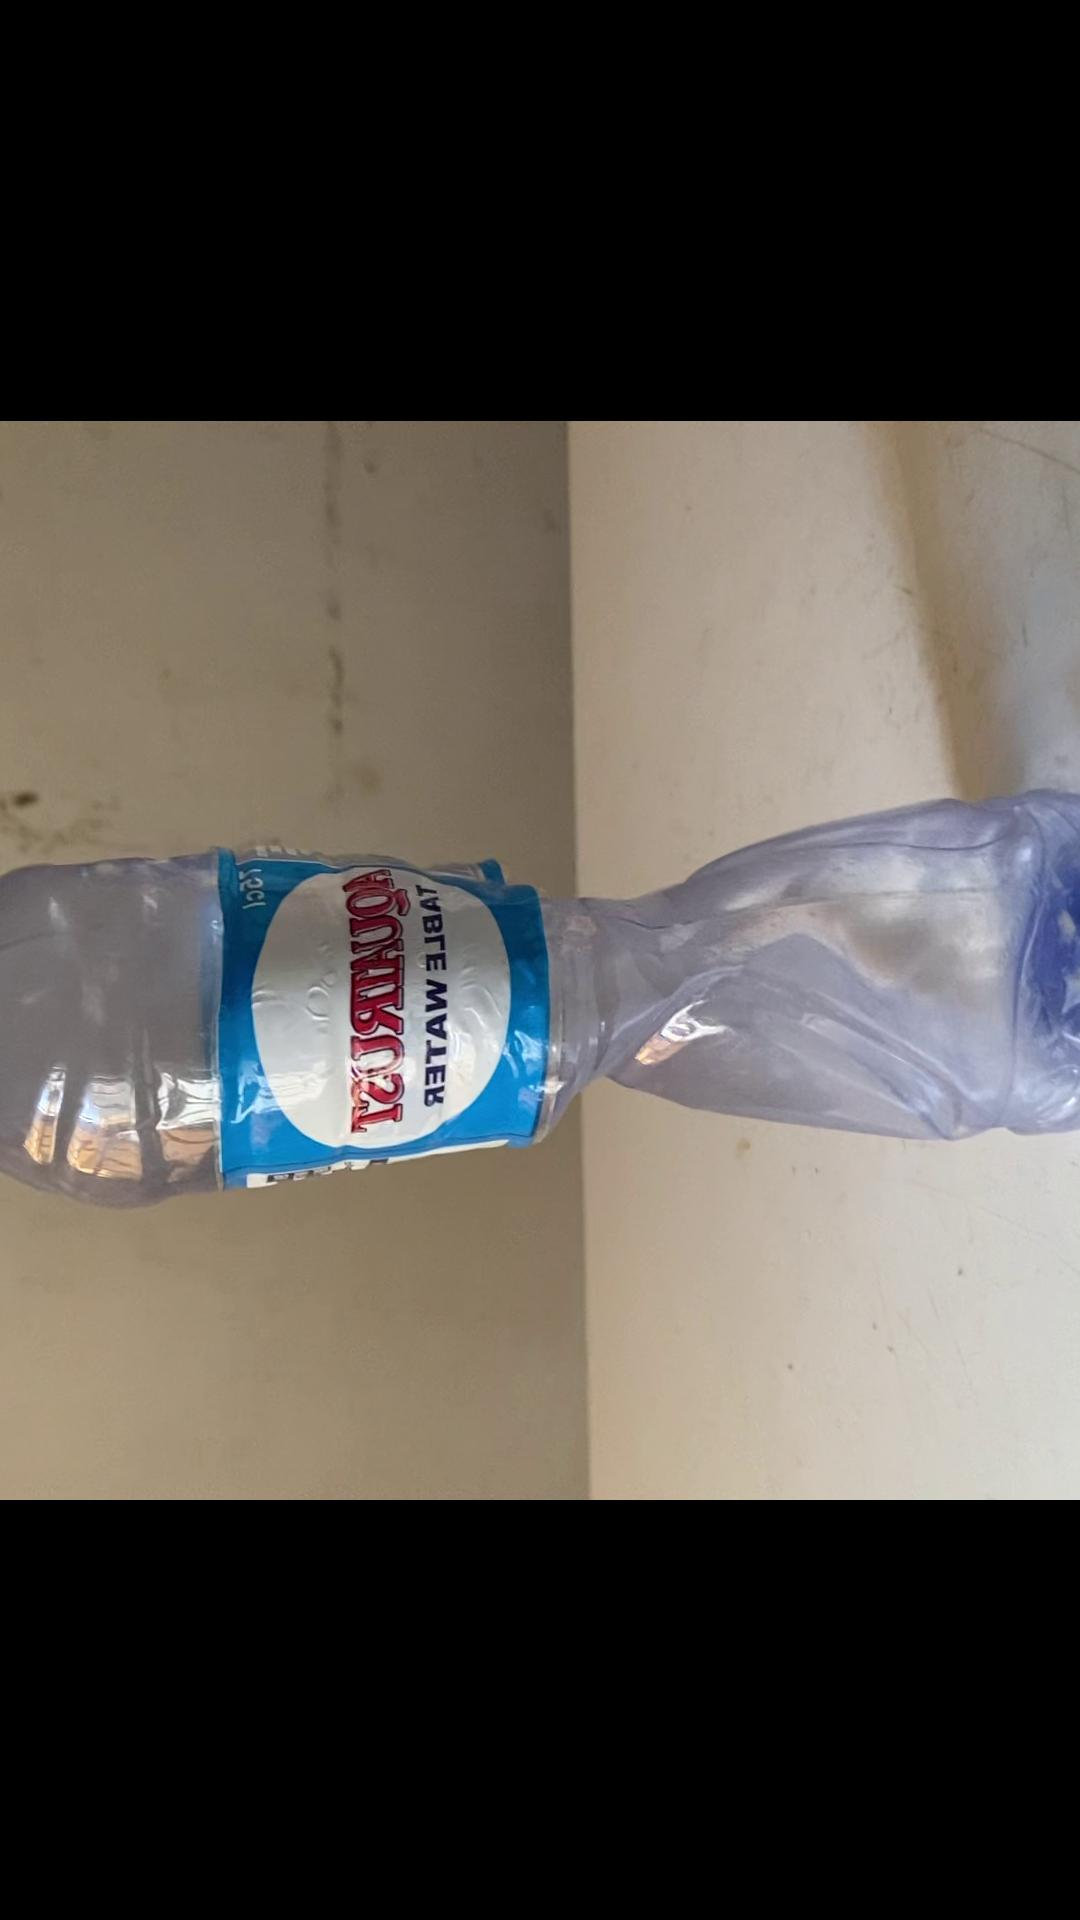crumbled: (0, 781, 1080, 1217)
label: (211, 861, 551, 1159)
